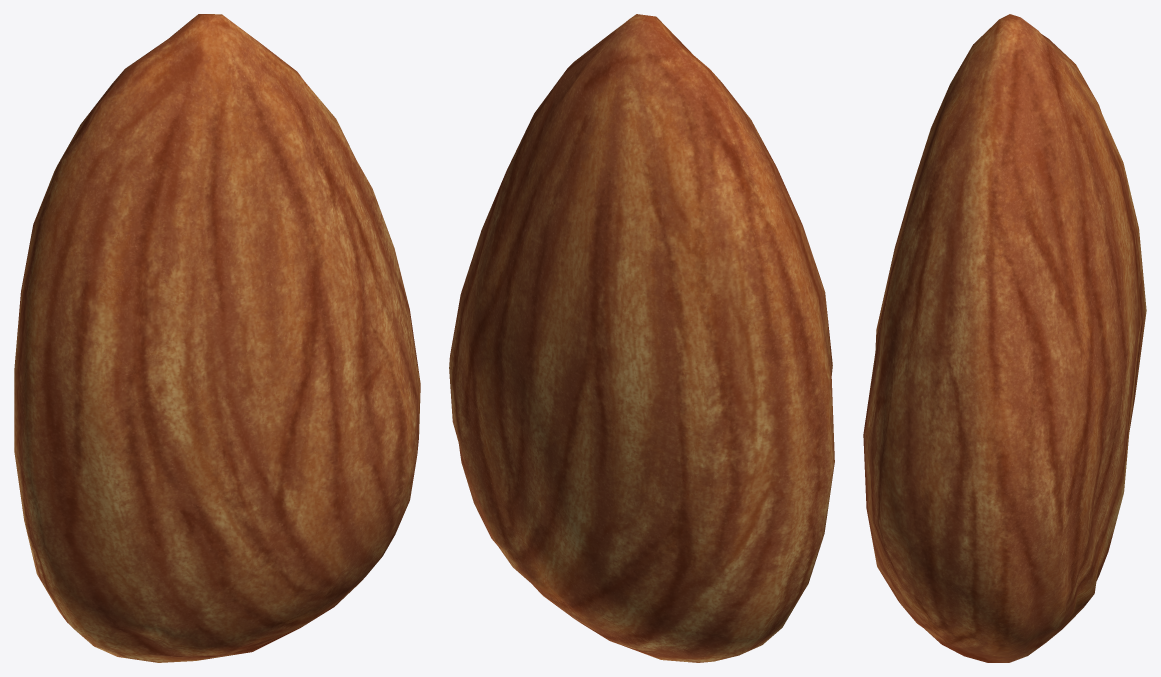
The model's file is Almond_2.obj.
3 views of the same model, side by side, from view 1: azimuth 30°, elevation 25°; view 2: azimuth 150°, elevation 25°; view 3: azimuth 270°, elevation 25° (orthographic).
Visible parts, largest first — view 1: Almond_2; view 2: Almond_2; view 3: Almond_2.
Part boxes in pixels (x1,y1,x2,y2): Almond_2: (14,14,420,662); Almond_2: (449,14,834,662); Almond_2: (863,14,1146,662).
Bounding box in the file's own units: 1.58 × 2.53 × 1.03.
